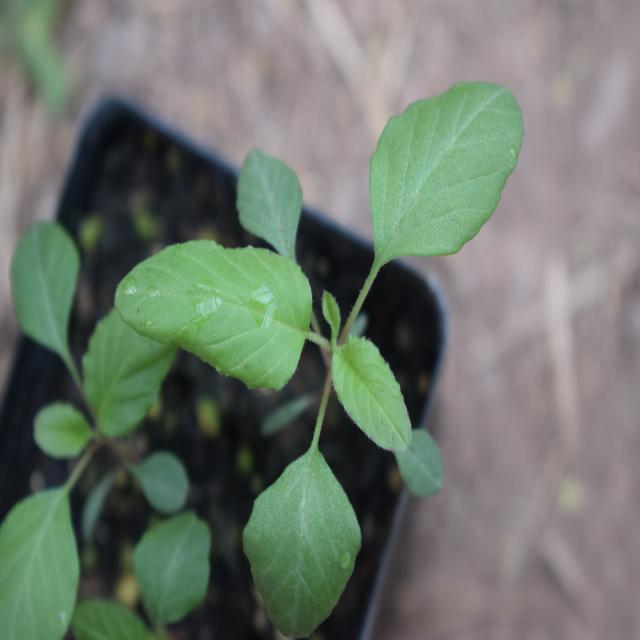pigweed: (147, 69, 533, 597)
